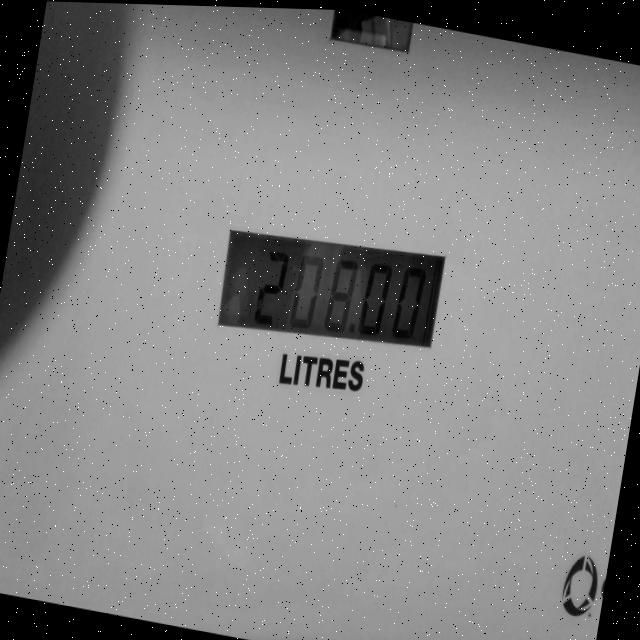.: (349, 322, 356, 336)
0: (358, 262, 393, 338), (290, 255, 324, 329), (394, 262, 426, 337)
2: (250, 248, 288, 321)
8: (324, 254, 358, 333)
